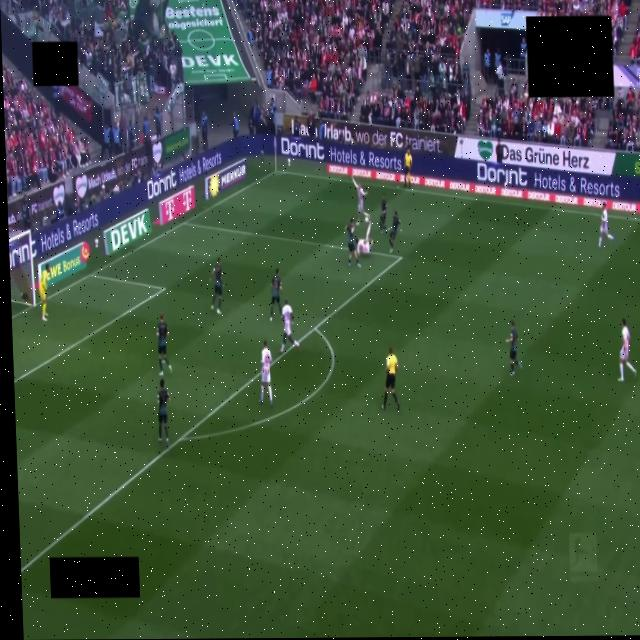ball: (365, 216, 370, 223)
player: (618, 318, 636, 382), (156, 313, 173, 376), (280, 300, 300, 353), (507, 321, 522, 375), (260, 340, 272, 406), (210, 258, 223, 314), (353, 179, 369, 224), (598, 203, 614, 248), (158, 380, 169, 445), (346, 218, 360, 267), (39, 264, 50, 321), (270, 269, 282, 321), (389, 211, 401, 252), (357, 222, 372, 253), (379, 195, 387, 232)
referee: (382, 348, 399, 410)
